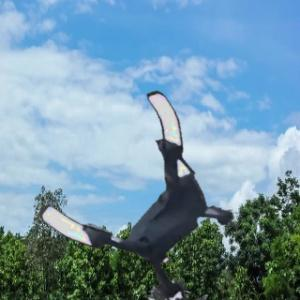drone: (62, 102, 252, 292)
